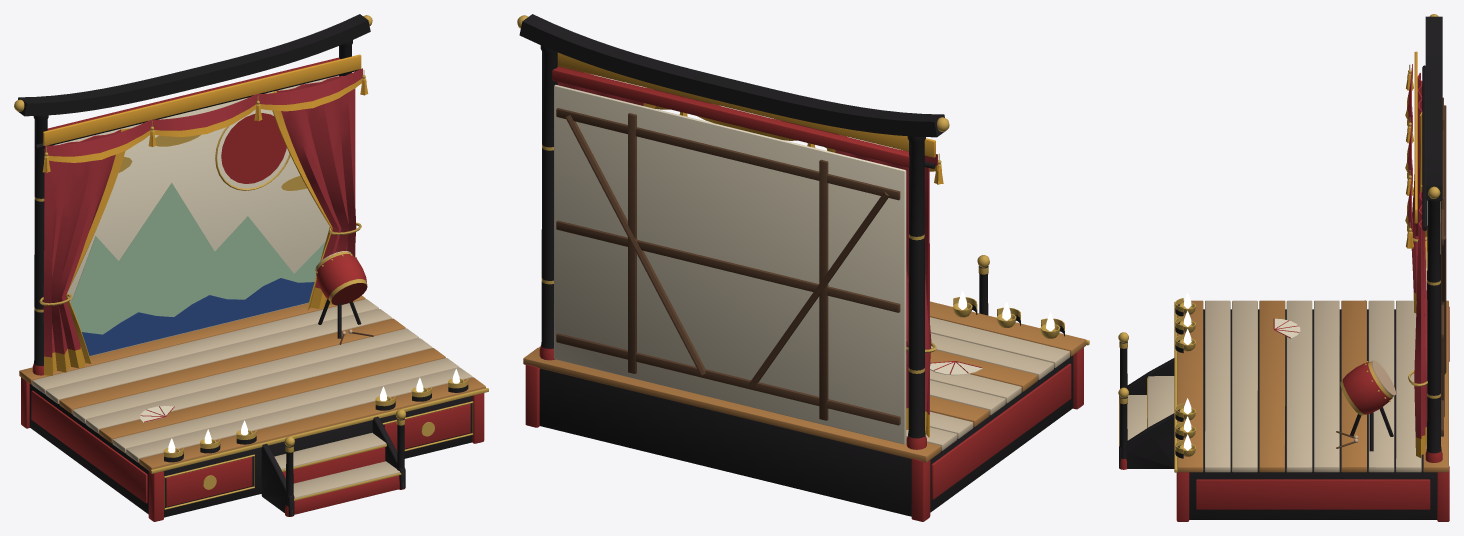
File: deco_stage.fbx
3 views of the same model, side by side, from view 1: azimuth 30°, elevation 25°; view 2: azimuth 150°, elevation 25°; view 3: azimuth 270°, elevation 25° (orthographic). The views are drawn at different scales.
Visible parts, largest first — view 1: Stage_Deck, Stage_Backdrop, Stage_Curtains, Stage_Valance, Stage_Steps, Stage_Props, Stage_Footlights; view 2: Stage_Backdrop, Stage_Deck, Stage_Valance, Stage_Curtains, Stage_Footlights; view 3: Stage_Deck, Stage_Backdrop, Stage_Steps, Stage_Curtains, Stage_Props, Stage_Footlights, Stage_Valance.
Boxes of the visible parts, <box> form: Stage_Deck: <box>19,295,488,521</box>; Stage_Backdrop: <box>14,14,372,375</box>; Stage_Curtains: <box>34,69,361,375</box>; Stage_Valance: <box>42,54,368,172</box>; Stage_Steps: <box>261,409,405,516</box>; Stage_Props: <box>140,251,373,422</box>; Stage_Footlights: <box>163,369,468,462</box>; Stage_Backdrop: <box>517,14,949,449</box>; Stage_Deck: <box>523,301,1089,521</box>; Stage_Valance: <box>557,52,943,184</box>; Stage_Curtains: <box>557,82,936,437</box>; Stage_Footlights: <box>952,291,1064,338</box>; Stage_Deck: <box>1174,300,1449,521</box>; Stage_Backdrop: <box>1425,14,1446,462</box>; Stage_Steps: <box>1118,332,1174,469</box>; Stage_Curtains: <box>1408,65,1427,457</box>; Stage_Props: <box>1273,318,1395,451</box>; Stage_Footlights: <box>1175,292,1195,458</box>; Stage_Valance: <box>1405,51,1417,248</box>.
Size of the model in its own units: 539 by 480 by 425.
